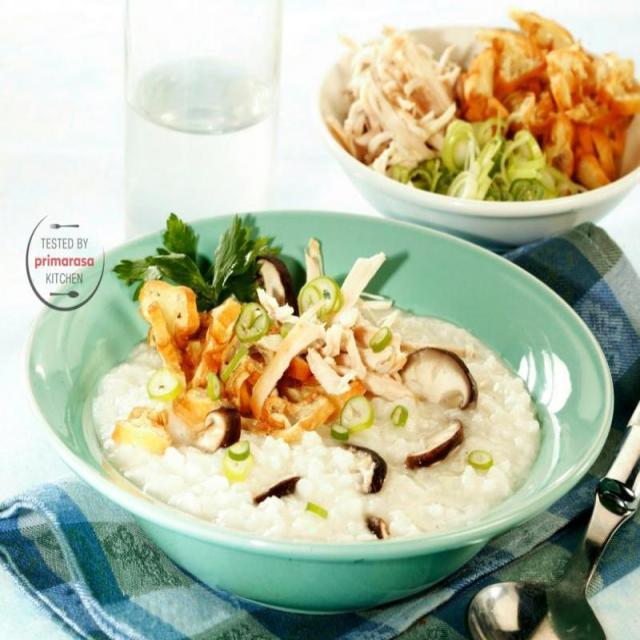bubur ayam: (91, 296, 544, 542)
mangkuk: (19, 207, 612, 613), (308, 9, 639, 249)
